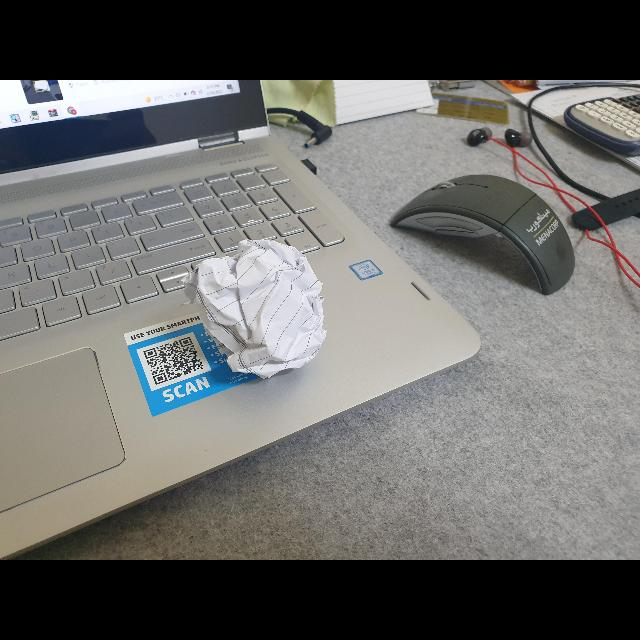scrap_paper: (178, 230, 340, 382)
